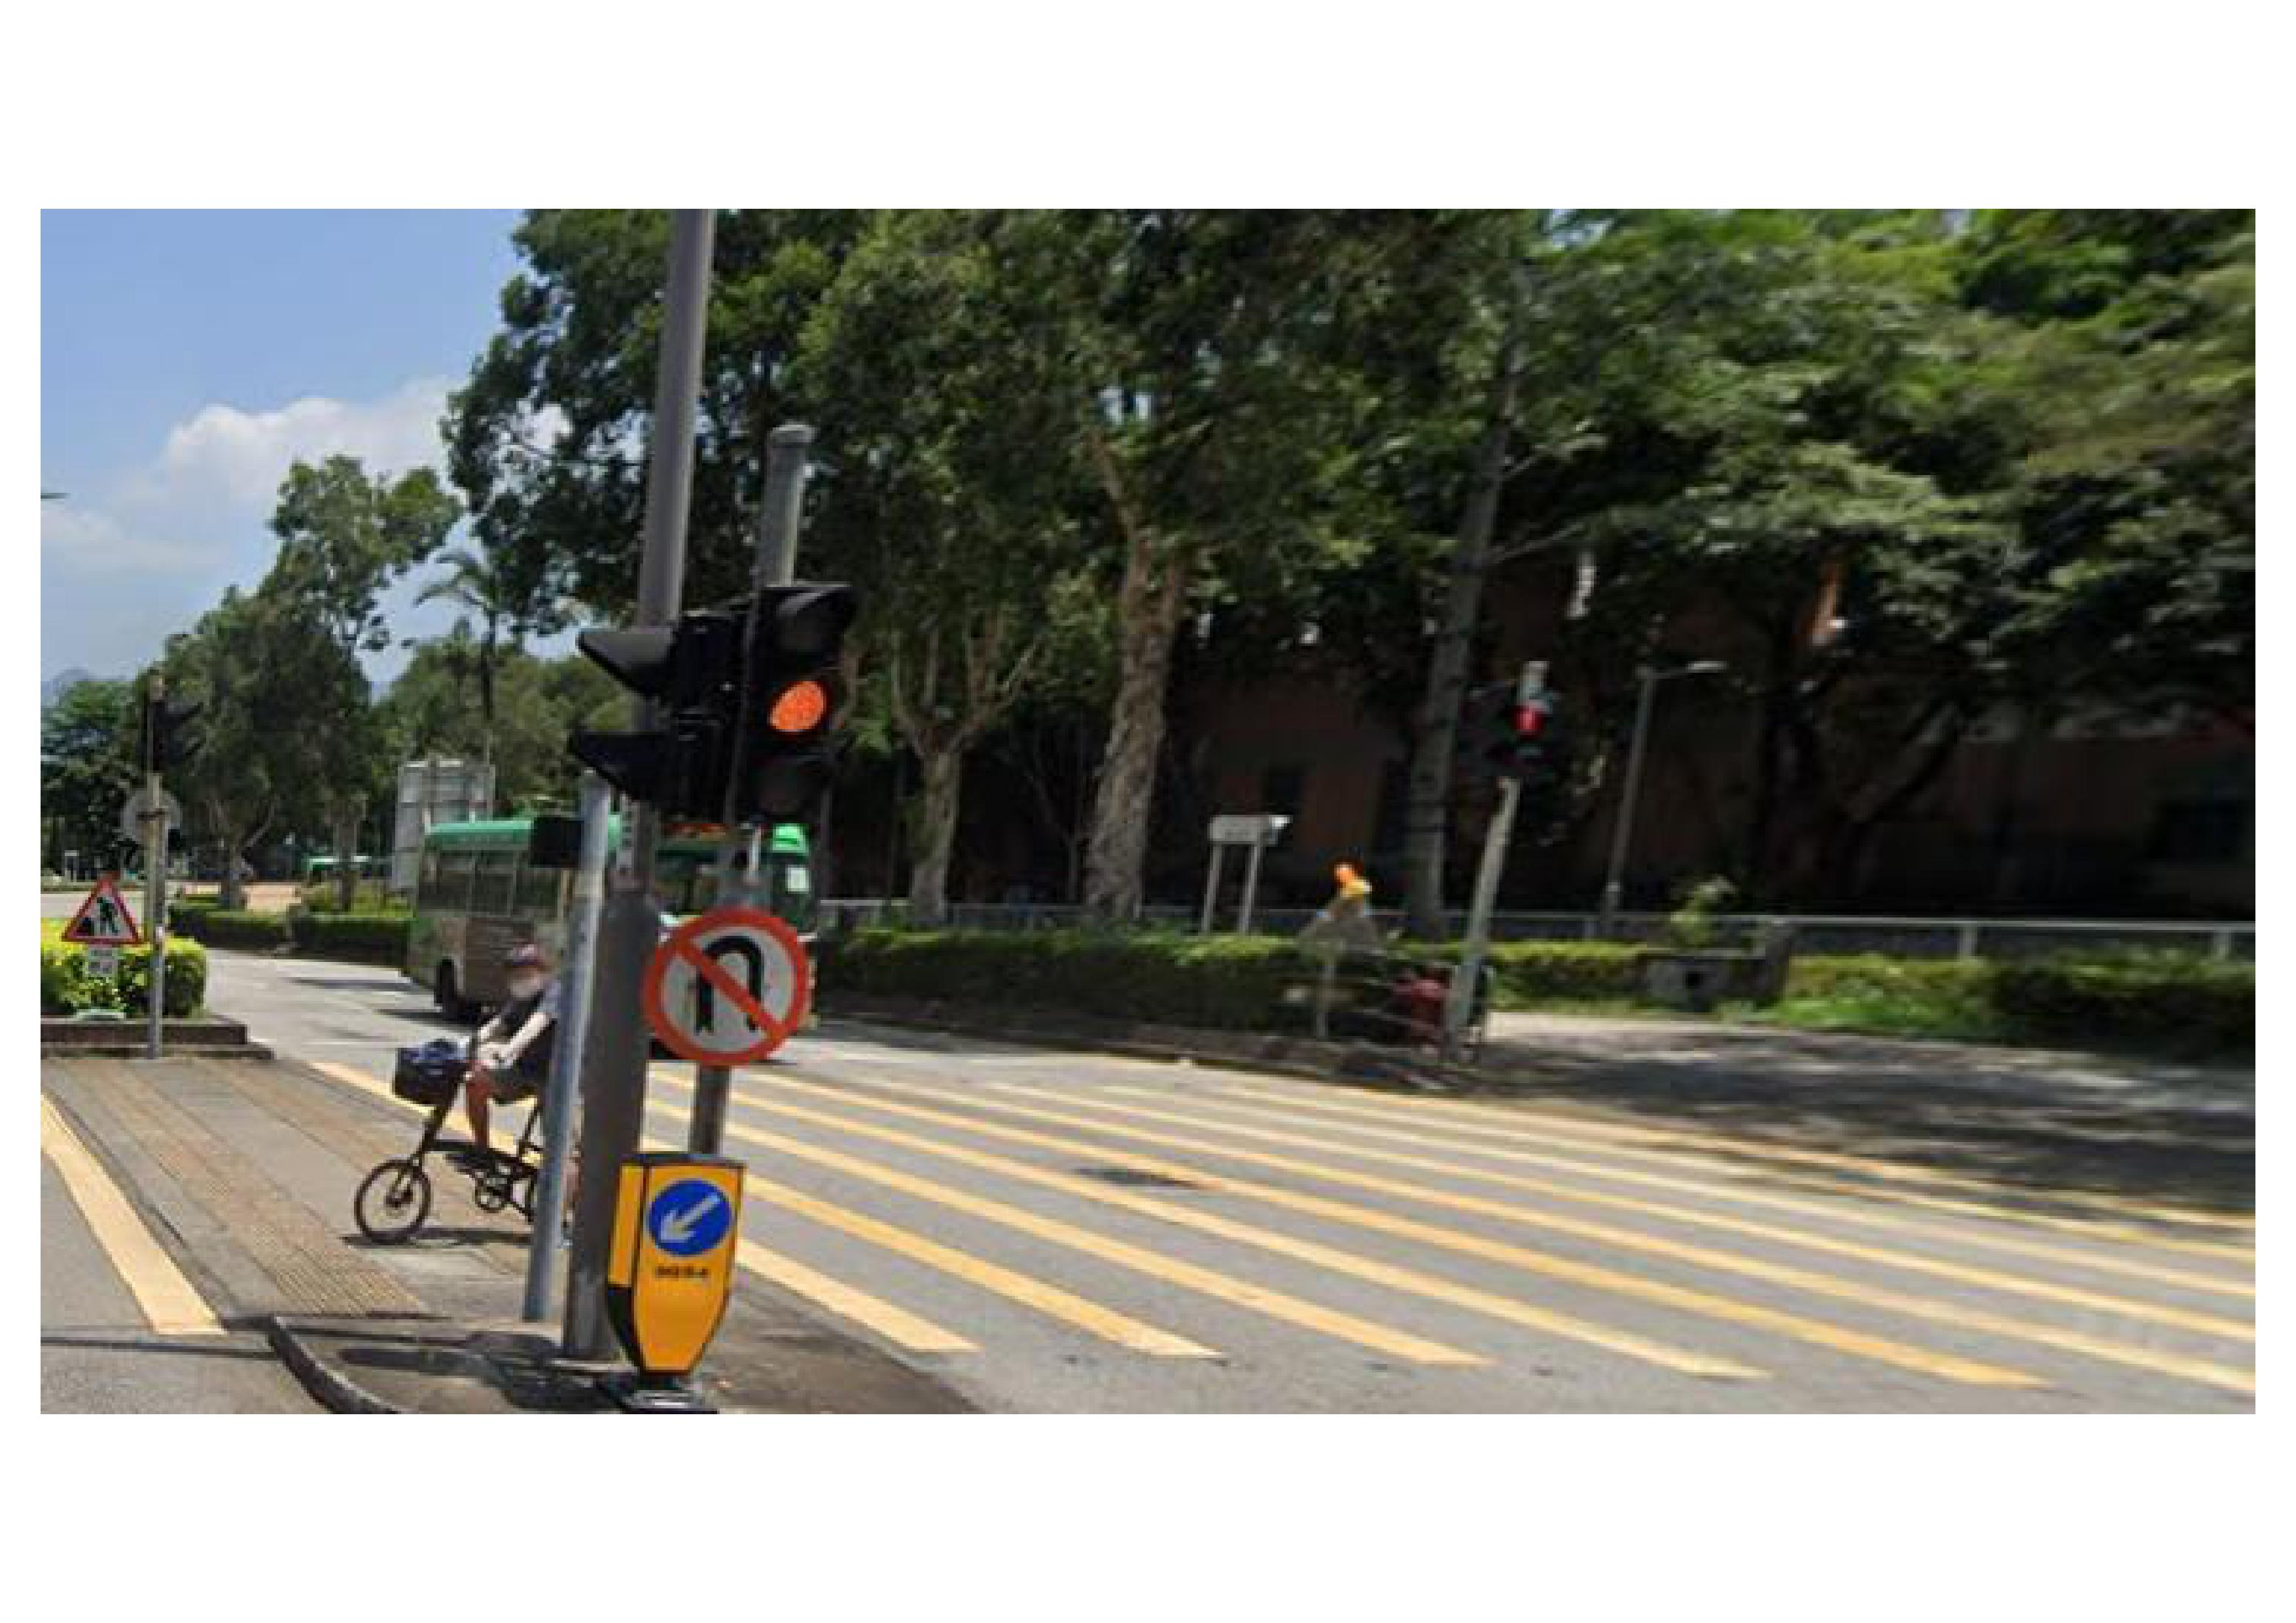No Uturn: (637, 901, 829, 1073)
